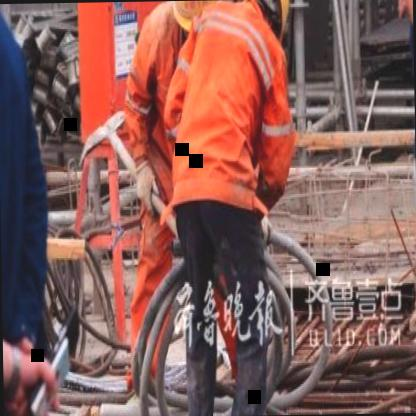helmet: (233, 0, 294, 36), (174, 0, 214, 24)
